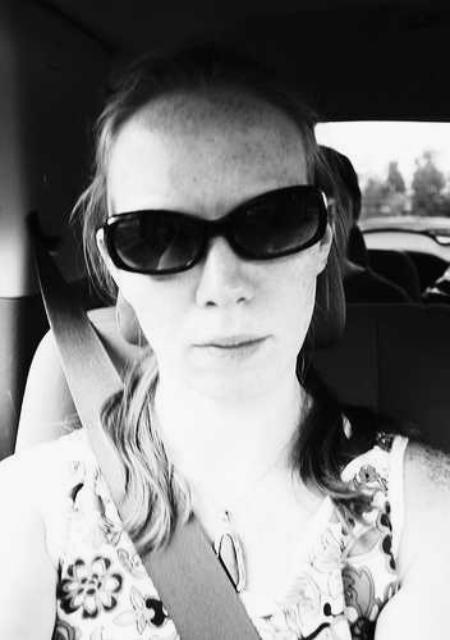Seatbelt: (30, 256, 268, 640)
